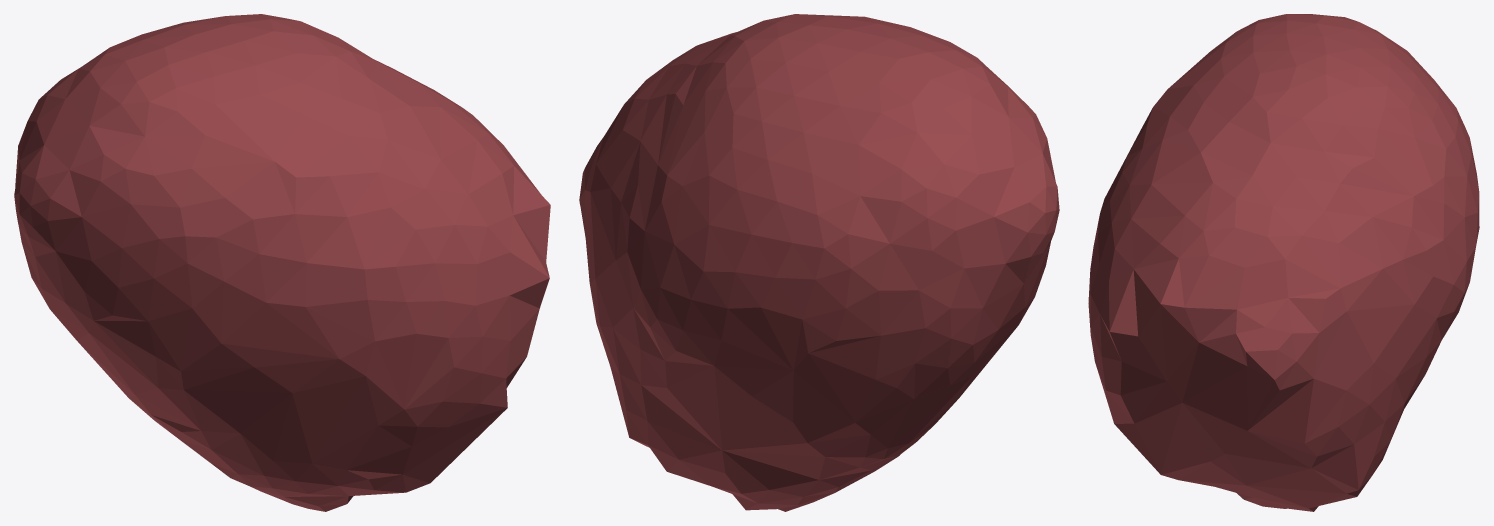
The model's file is Model_467_RH__Abducens_nucleus_(6N).obj.
3 views of the same model, side by side, from view 1: azimuth 30°, elevation 25°; view 2: azimuth 150°, elevation 25°; view 3: azimuth 270°, elevation 25° (orthographic). The views are drawn at different scales.
Size of the model in its own units: 1.13 by 1.09 by 0.8942.
